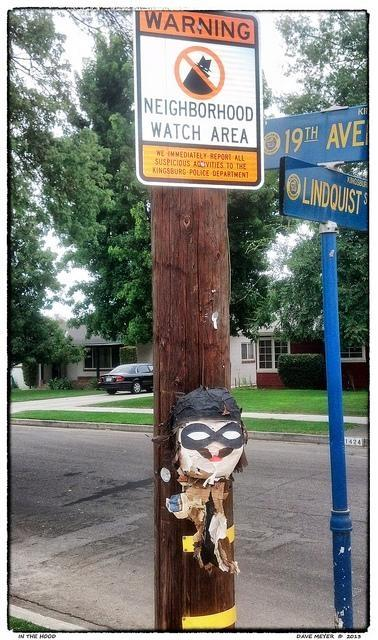car: (98, 362, 152, 394)
